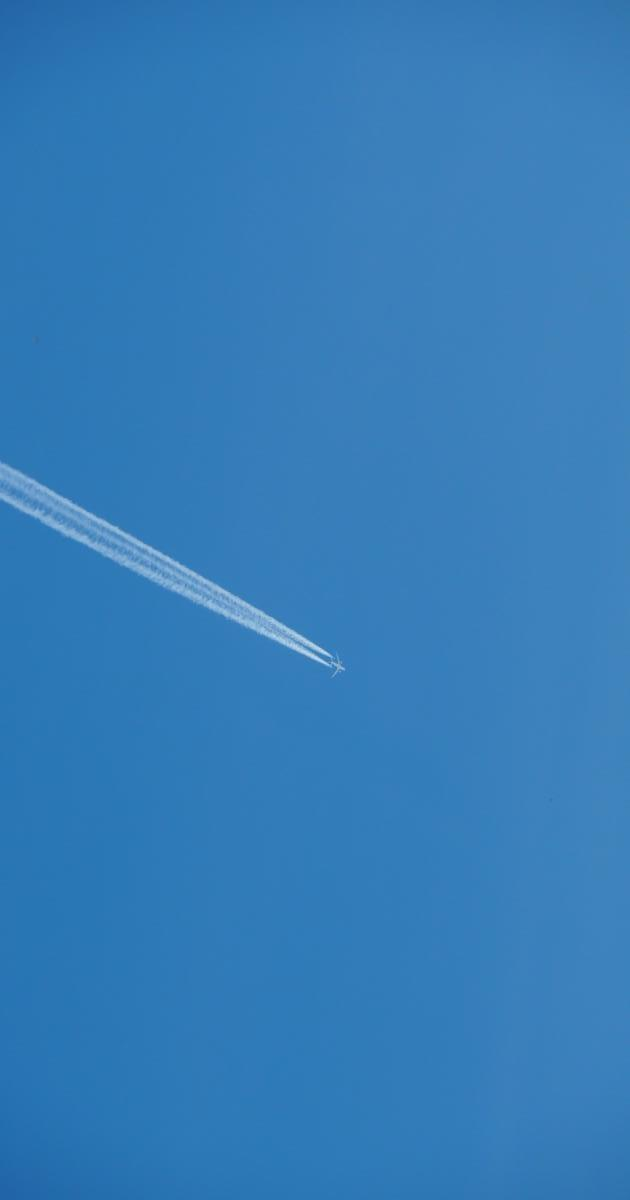Plane: (4, 415, 365, 719)
